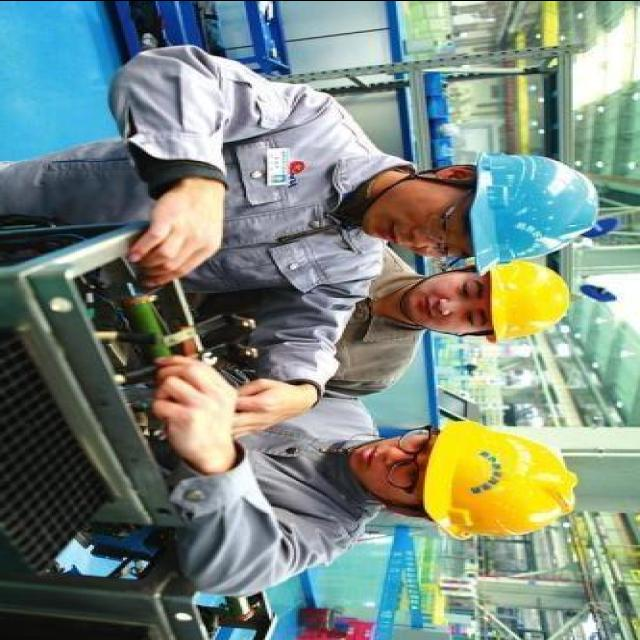helmet: (419, 412, 582, 550), (470, 148, 614, 274), (470, 262, 573, 346)
